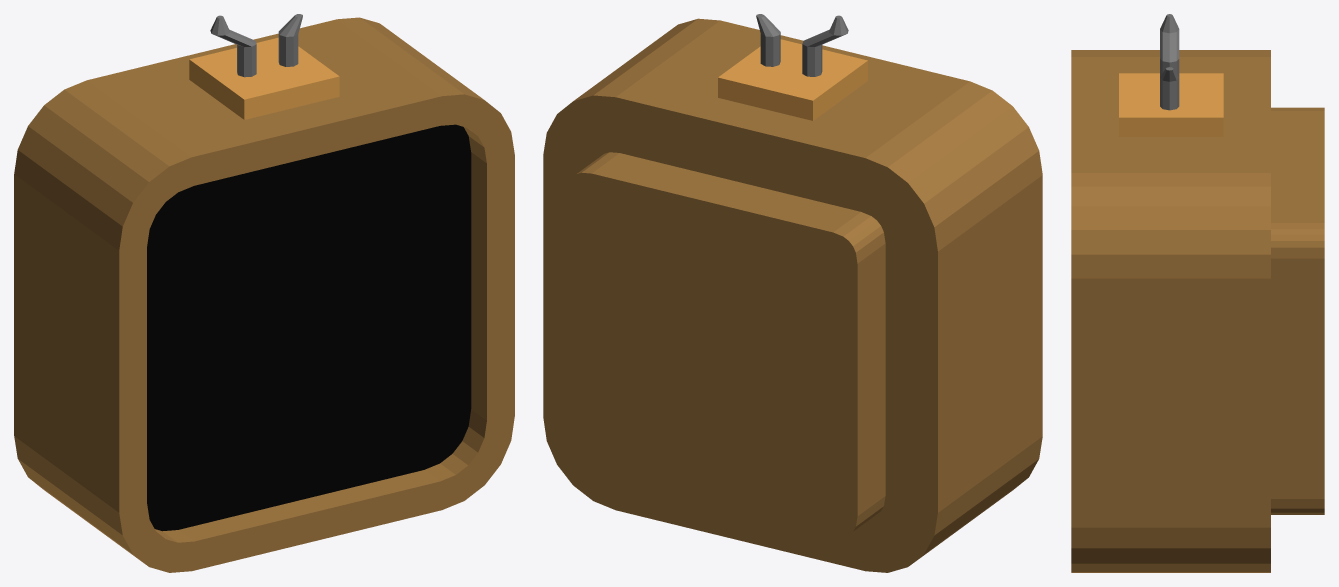
The model's file is Televisor.fbx.
3 views of the same model, side by side, from view 1: azimuth 30°, elevation 25°; view 2: azimuth 150°, elevation 25°; view 3: azimuth 270°, elevation 25° (orthographic). The views are drawn at different scales.
Parts seen in each view (by area): view 1: TV; view 2: TV; view 3: TV.
Boxes of the visible parts, x1,y1,x2,y2 form: TV: (14,14,514,572); TV: (543,14,1042,572); TV: (1071,14,1324,572).
Bounding box in the file's own units: 11699 × 14038 × 6825.
